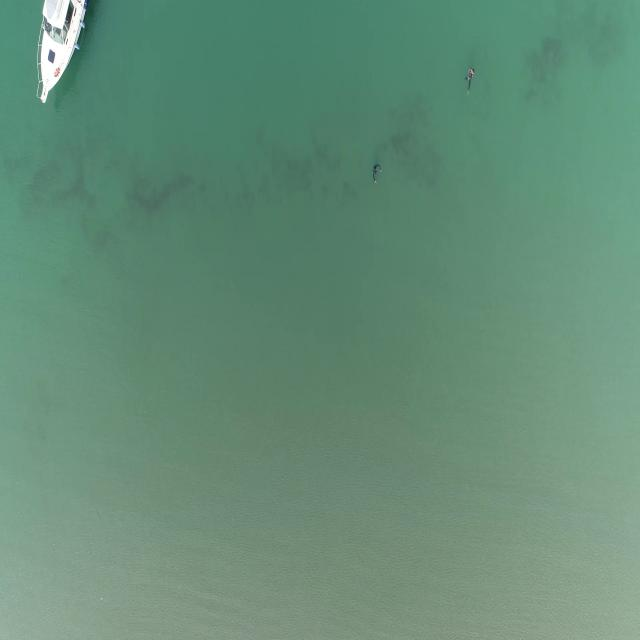boat: (31, 0, 90, 106)
person: (465, 66, 477, 95), (371, 163, 384, 185)
